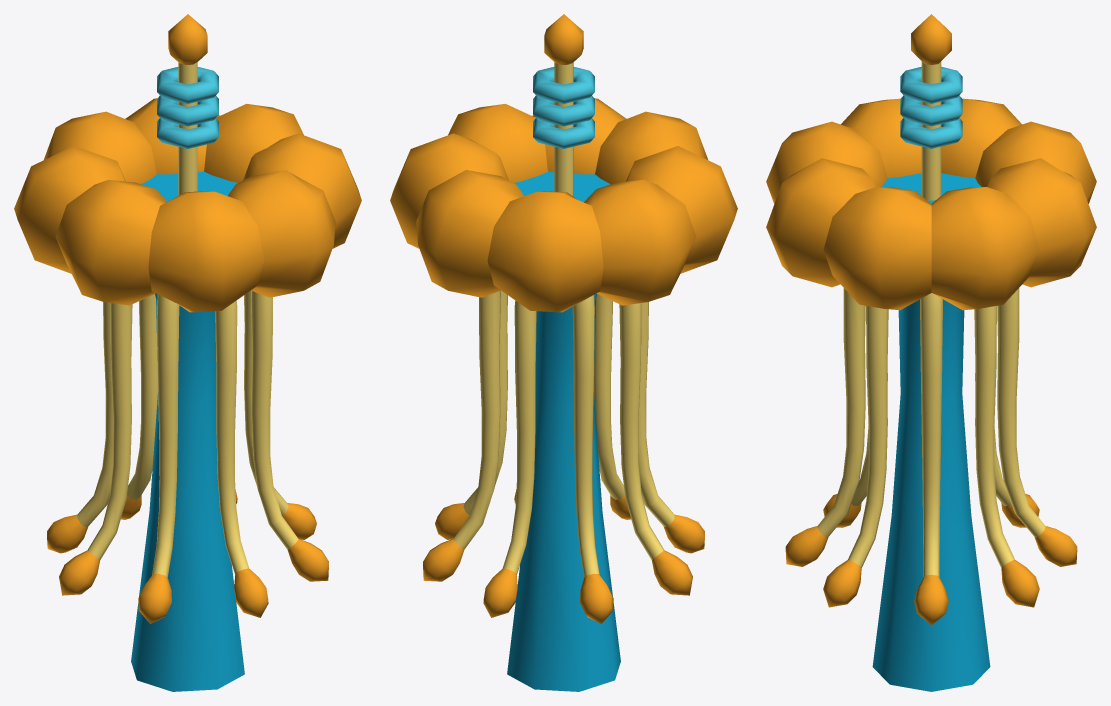
Rendered from Plant_9_blue.fbx.
The picture shows the model from 3 angles, left to right: view 1: azimuth 30°, elevation 25°; view 2: azimuth 150°, elevation 25°; view 3: azimuth 270°, elevation 25°; orthographic projection.
Parts seen in each view (by area): view 1: Plant_9_blue; view 2: Plant_9_blue; view 3: Plant_9_blue.
Part boxes in pixels (bbox=[...]): Plant_9_blue: bbox=[14, 14, 361, 691]; Plant_9_blue: bbox=[390, 14, 737, 691]; Plant_9_blue: bbox=[766, 14, 1096, 691].
Size of the model in its own units: 1.82 by 3.96 by 1.82.
